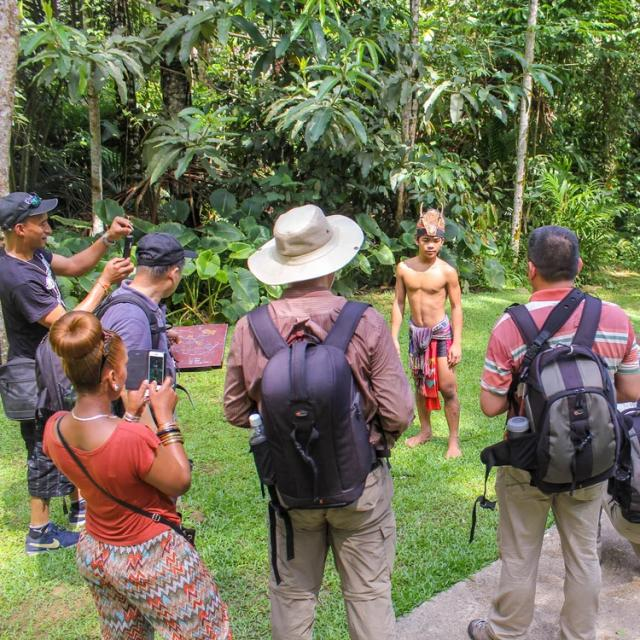Person: (221, 195, 412, 640), (469, 216, 640, 640), (29, 301, 240, 640), (0, 183, 78, 557), (386, 199, 478, 471), (98, 221, 192, 366)
